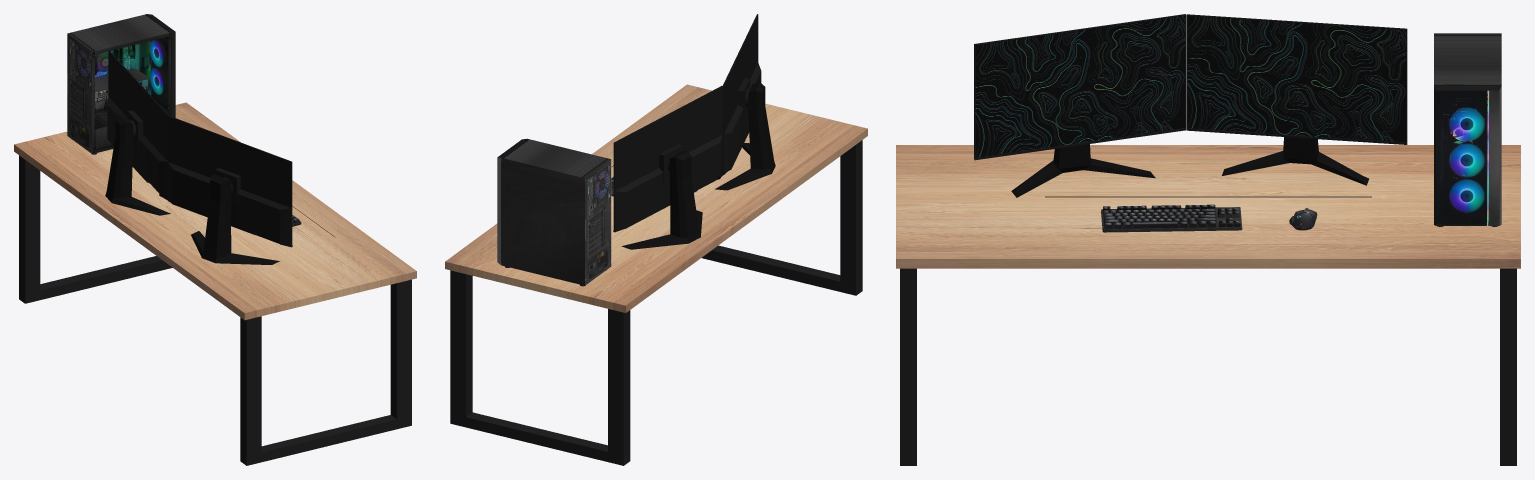
Rendered from desk.glb.
3 views of the same model, side by side, from view 1: azimuth 30°, elevation 25°; view 2: azimuth 150°, elevation 25°; view 3: azimuth 270°, elevation 25° (orthographic). The views are drawn at different scales.
Parts seen in each view (by area): view 1: Plane_0, Plane001_1, Cylinder001_5, Plane002_2, Cylinder_3, Cube002_6, Cube001_4; view 2: Plane_0, Plane001_1, Plane002_2, Cylinder_3, Cylinder001_5, Cube001_4, Cube002_6; view 3: Plane_0, Cylinder_3, Cylinder001_5, Plane002_2, Plane001_1, Plane003_7, Cube001_4, Cube002_6, Plane005_9.
Boxes of the visible parts, box(x1,y1,x2,y2) form: Plane_0: box(14, 102, 416, 320); Plane001_1: box(19, 155, 411, 465); Cylinder001_5: box(168, 116, 292, 247); Plane002_2: box(67, 14, 175, 154); Cylinder_3: box(107, 50, 168, 200); Cube002_6: box(191, 175, 279, 264); Cube001_4: box(105, 115, 170, 215); Plane_0: box(445, 84, 867, 312); Plane001_1: box(450, 140, 862, 465); Plane002_2: box(497, 138, 611, 286); Cylinder_3: box(613, 86, 722, 232); Cylinder001_5: box(722, 14, 761, 175); Cube001_4: box(621, 150, 702, 249); Cube002_6: box(715, 82, 775, 190); Plane_0: box(896, 145, 1520, 268); Cylinder_3: box(1186, 14, 1407, 144); Cylinder001_5: box(974, 14, 1186, 160); Plane002_2: box(1434, 33, 1501, 226); Plane001_1: box(900, 268, 1516, 465); Plane003_7: box(1101, 204, 1242, 232); Cube001_4: box(1222, 137, 1368, 185); Cube002_6: box(1011, 144, 1155, 197); Plane005_9: box(1045, 196, 1371, 197).
Size of the model in its own units: 1.05 by 1.56 by 2.45.
Materials: 11 (7 with a texture image).
